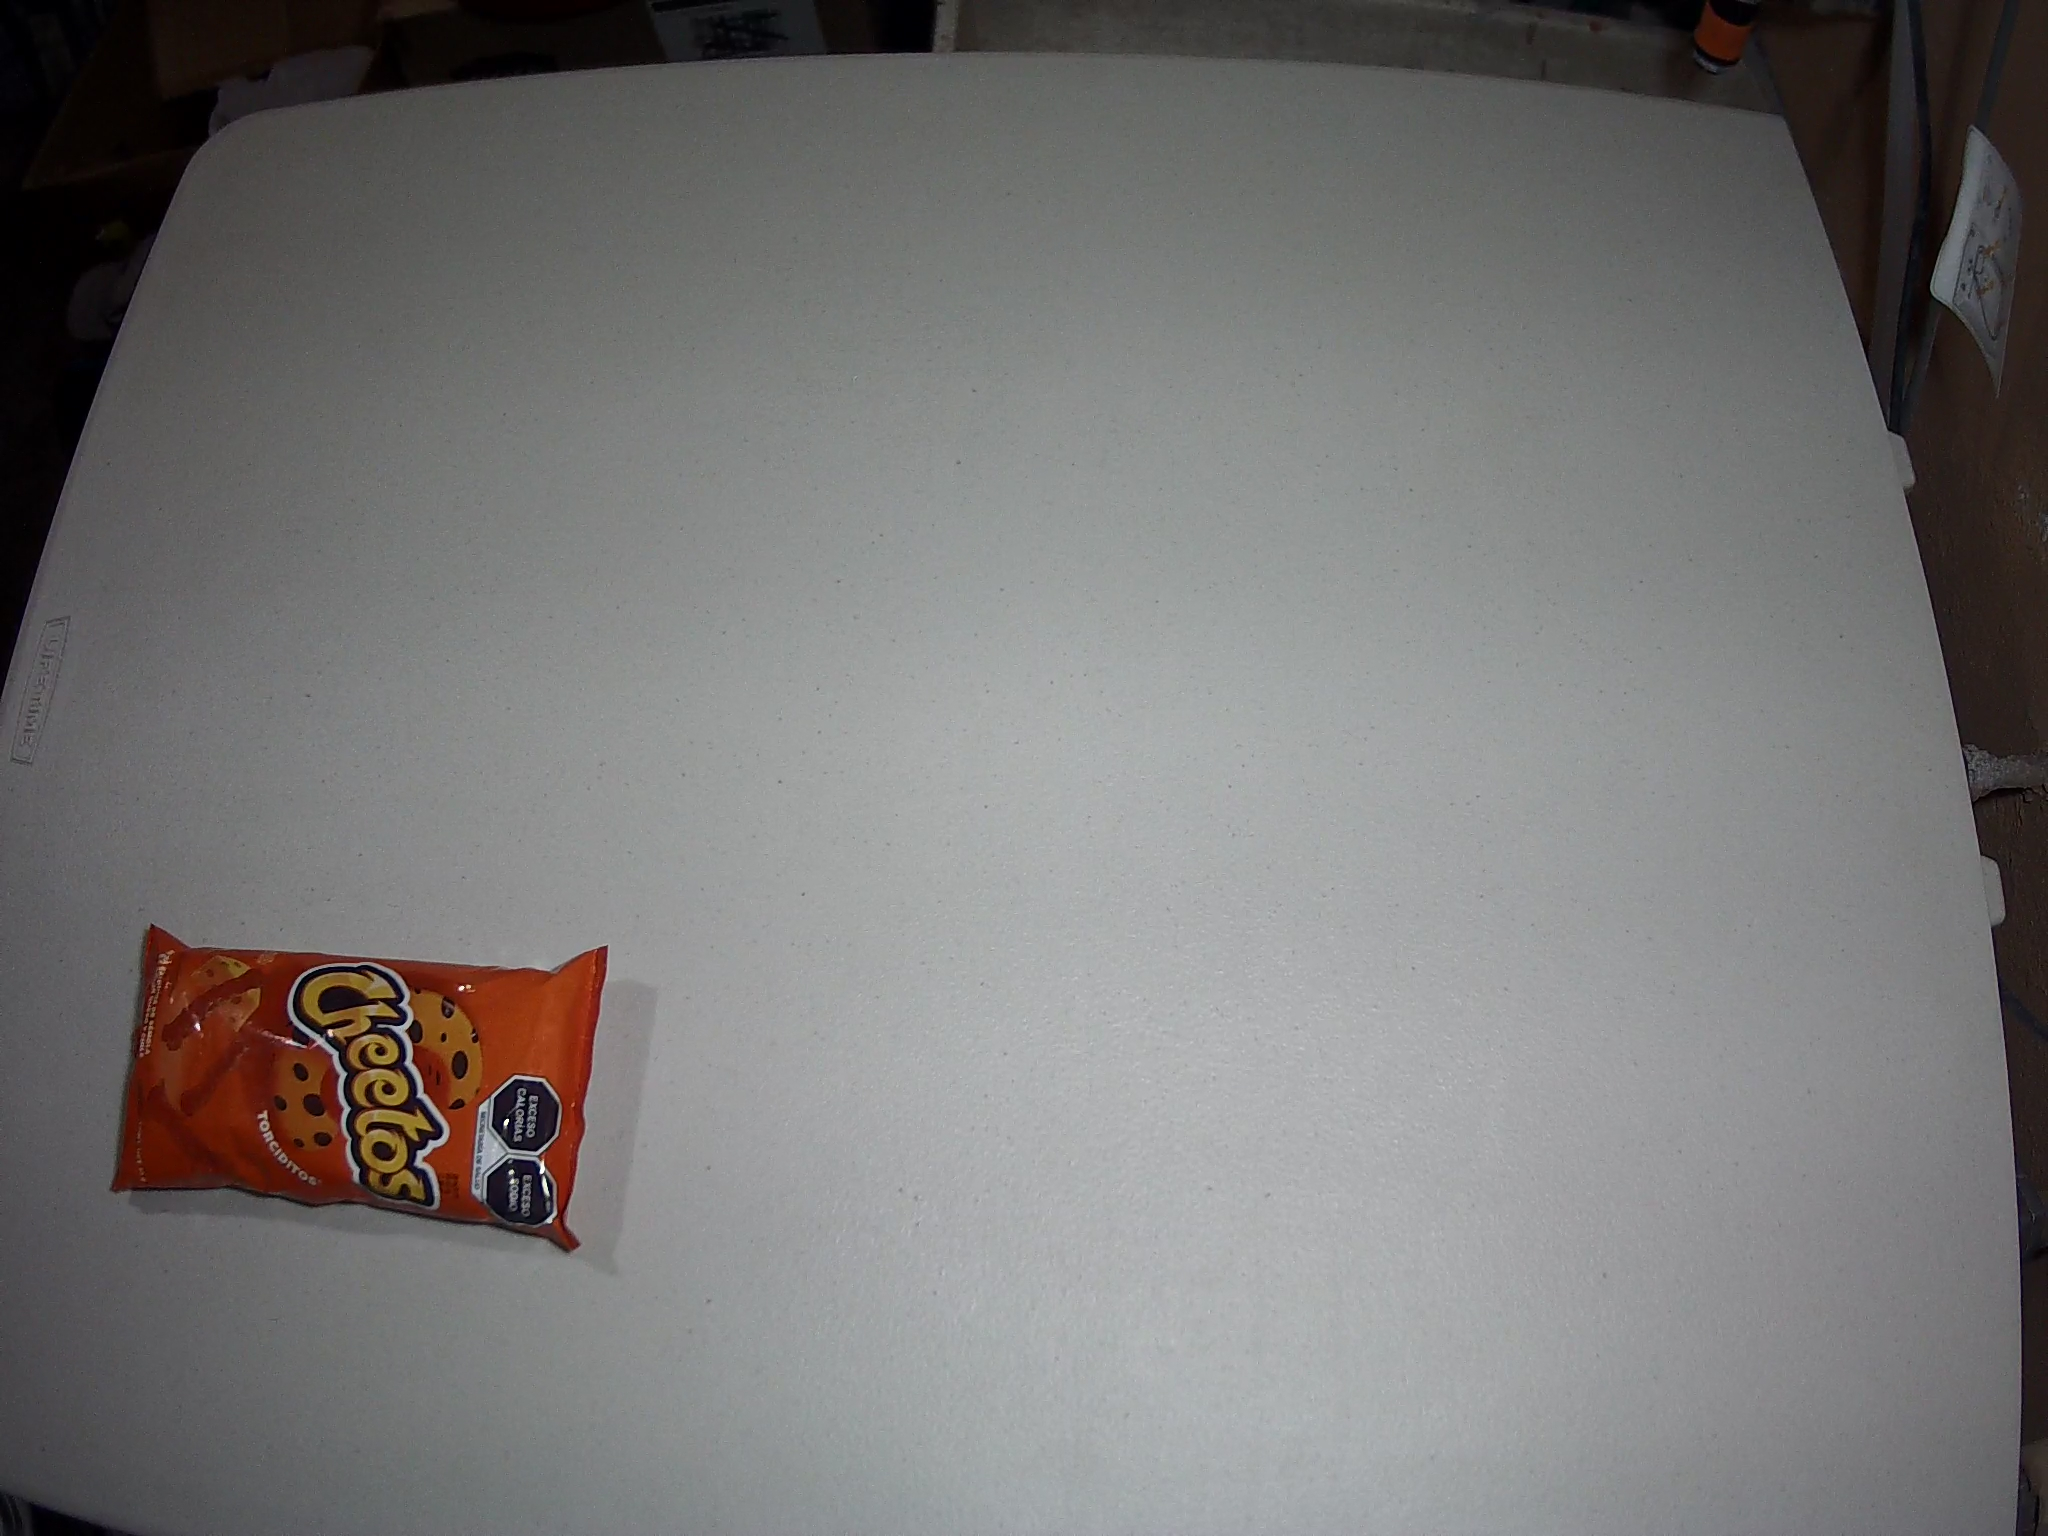CheetosTorciditos_55_F: (108, 925, 610, 1250)
